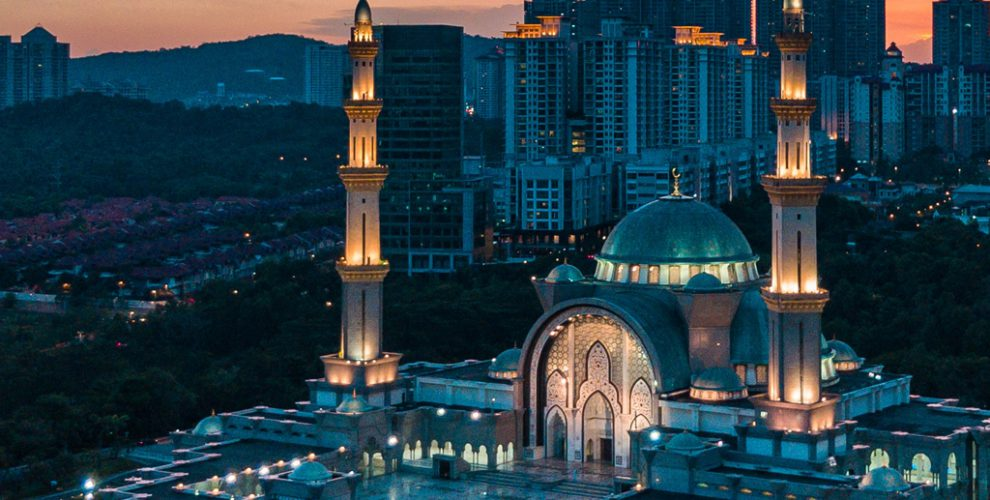Mosque: (160, 5, 934, 490)
